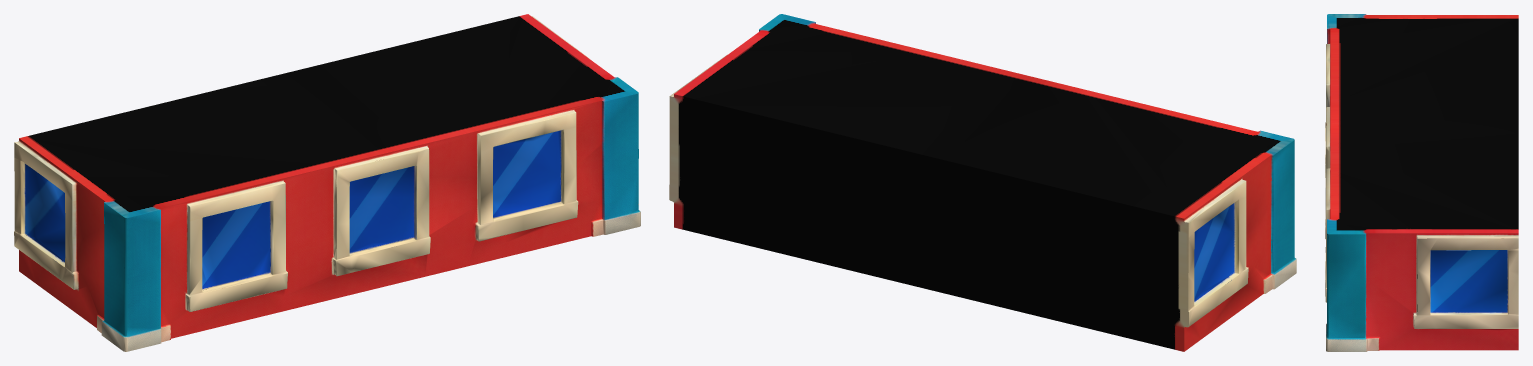
Rendered from 5-upper-walls-front.fbx.
3 renders of one model, left to right at view 1: azimuth 30°, elevation 25°; view 2: azimuth 150°, elevation 25°; view 3: azimuth 270°, elevation 25°, orthographic. The views are drawn at different scales.
Visible parts, largest first — view 1: upper-walls-front; view 2: upper-walls-front; view 3: upper-walls-front.
Boxes of the visible parts, x1=… form: upper-walls-front: x1=14, y1=14, x2=640, y2=351; upper-walls-front: x1=669, y1=14, x2=1296, y2=351; upper-walls-front: x1=1325, y1=14, x2=1518, y2=351.
Bounding box in the file's own units: 8972 × 2199 × 3299.
1 material, 1 textured.
